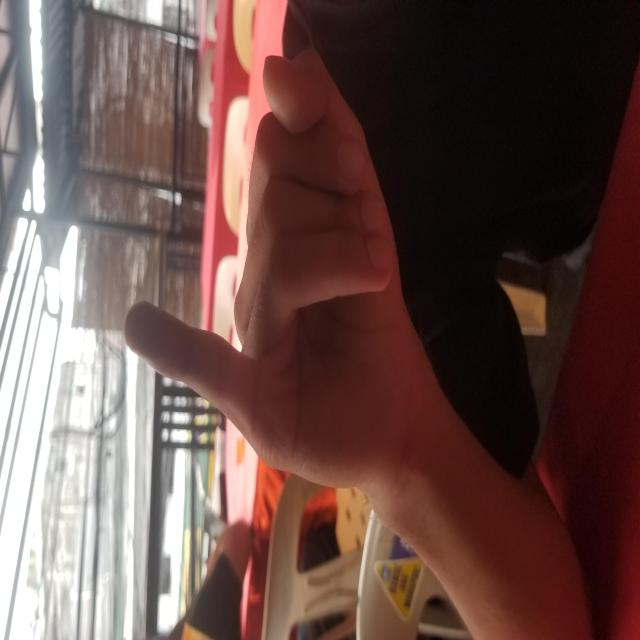I: (144, 122, 604, 414)
